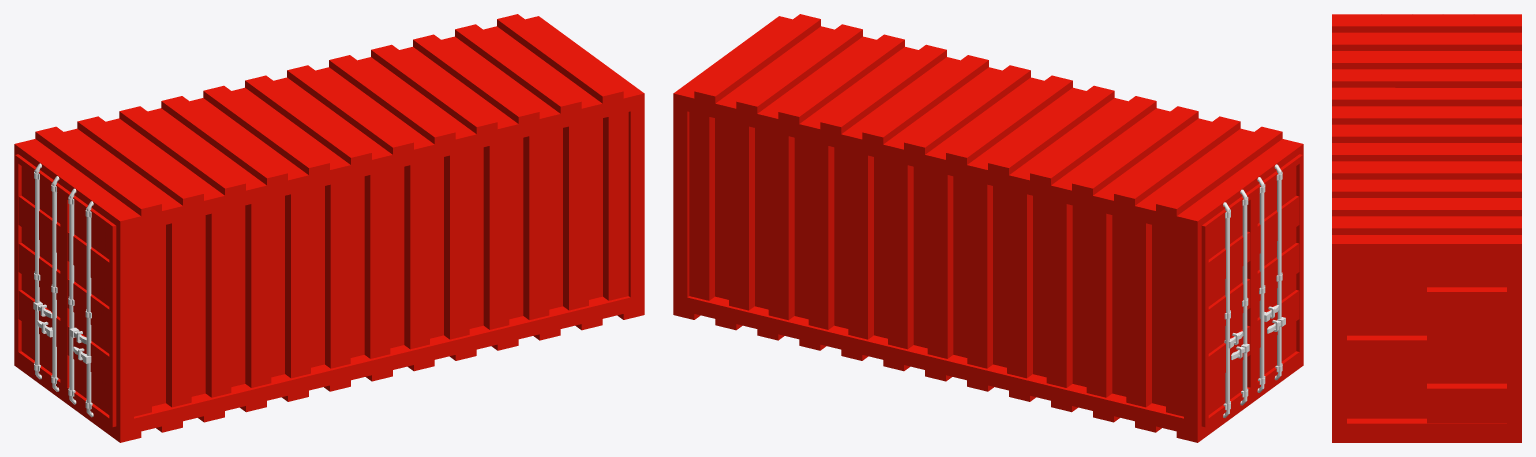
Rendered from containered.fbx.
3 renders of one model, left to right at view 1: azimuth 30°, elevation 25°; view 2: azimuth 150°, elevation 25°; view 3: azimuth 270°, elevation 25°, orthographic. The views are drawn at different scales.
Parts seen in each view (by area): view 1: containered; view 2: containered; view 3: containered.
Part boxes in pixels (x1,y1,x2,y2): containered: [14, 14, 644, 442]; containered: [673, 14, 1303, 442]; containered: [1332, 14, 1521, 442].
Size of the model in its own units: 1159 by 476 by 399.
